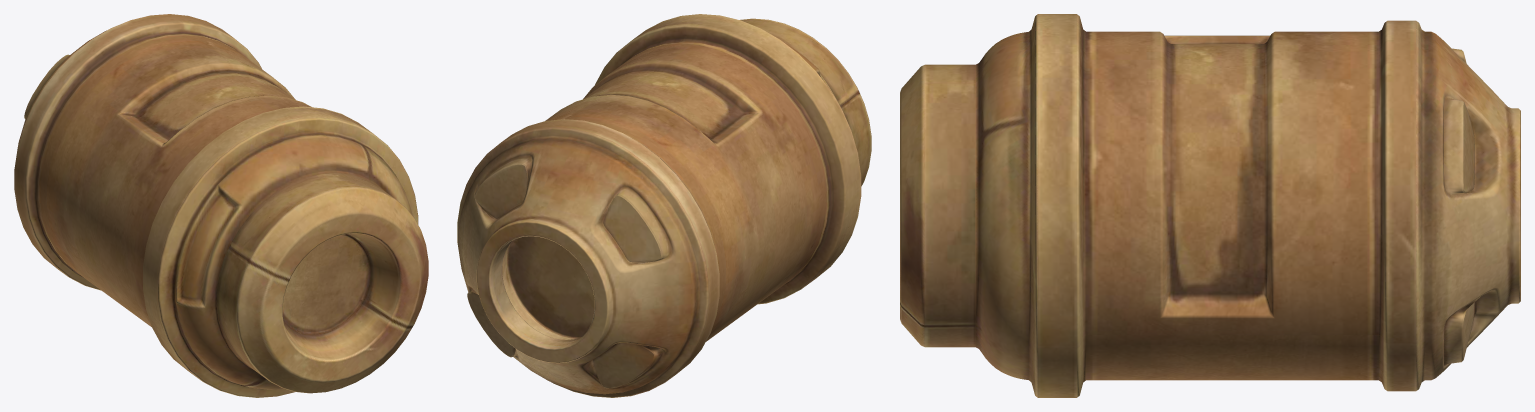
The model's file is Pipe03.fbx.
3 views of the same model, side by side, from view 1: azimuth 30°, elevation 25°; view 2: azimuth 150°, elevation 25°; view 3: azimuth 270°, elevation 25° (orthographic). The views are drawn at different scales.
Visible parts, largest first — view 1: Pipe03_LOD00; view 2: Pipe03_LOD00; view 3: Pipe03_LOD00.
Part boxes in pixels (bbox=[...]): Pipe03_LOD00: bbox=[14, 14, 428, 397]; Pipe03_LOD00: bbox=[457, 14, 871, 397]; Pipe03_LOD00: bbox=[900, 14, 1520, 397].
Size of what is drawn, in the model's own units: 644 by 644 by 1043.
